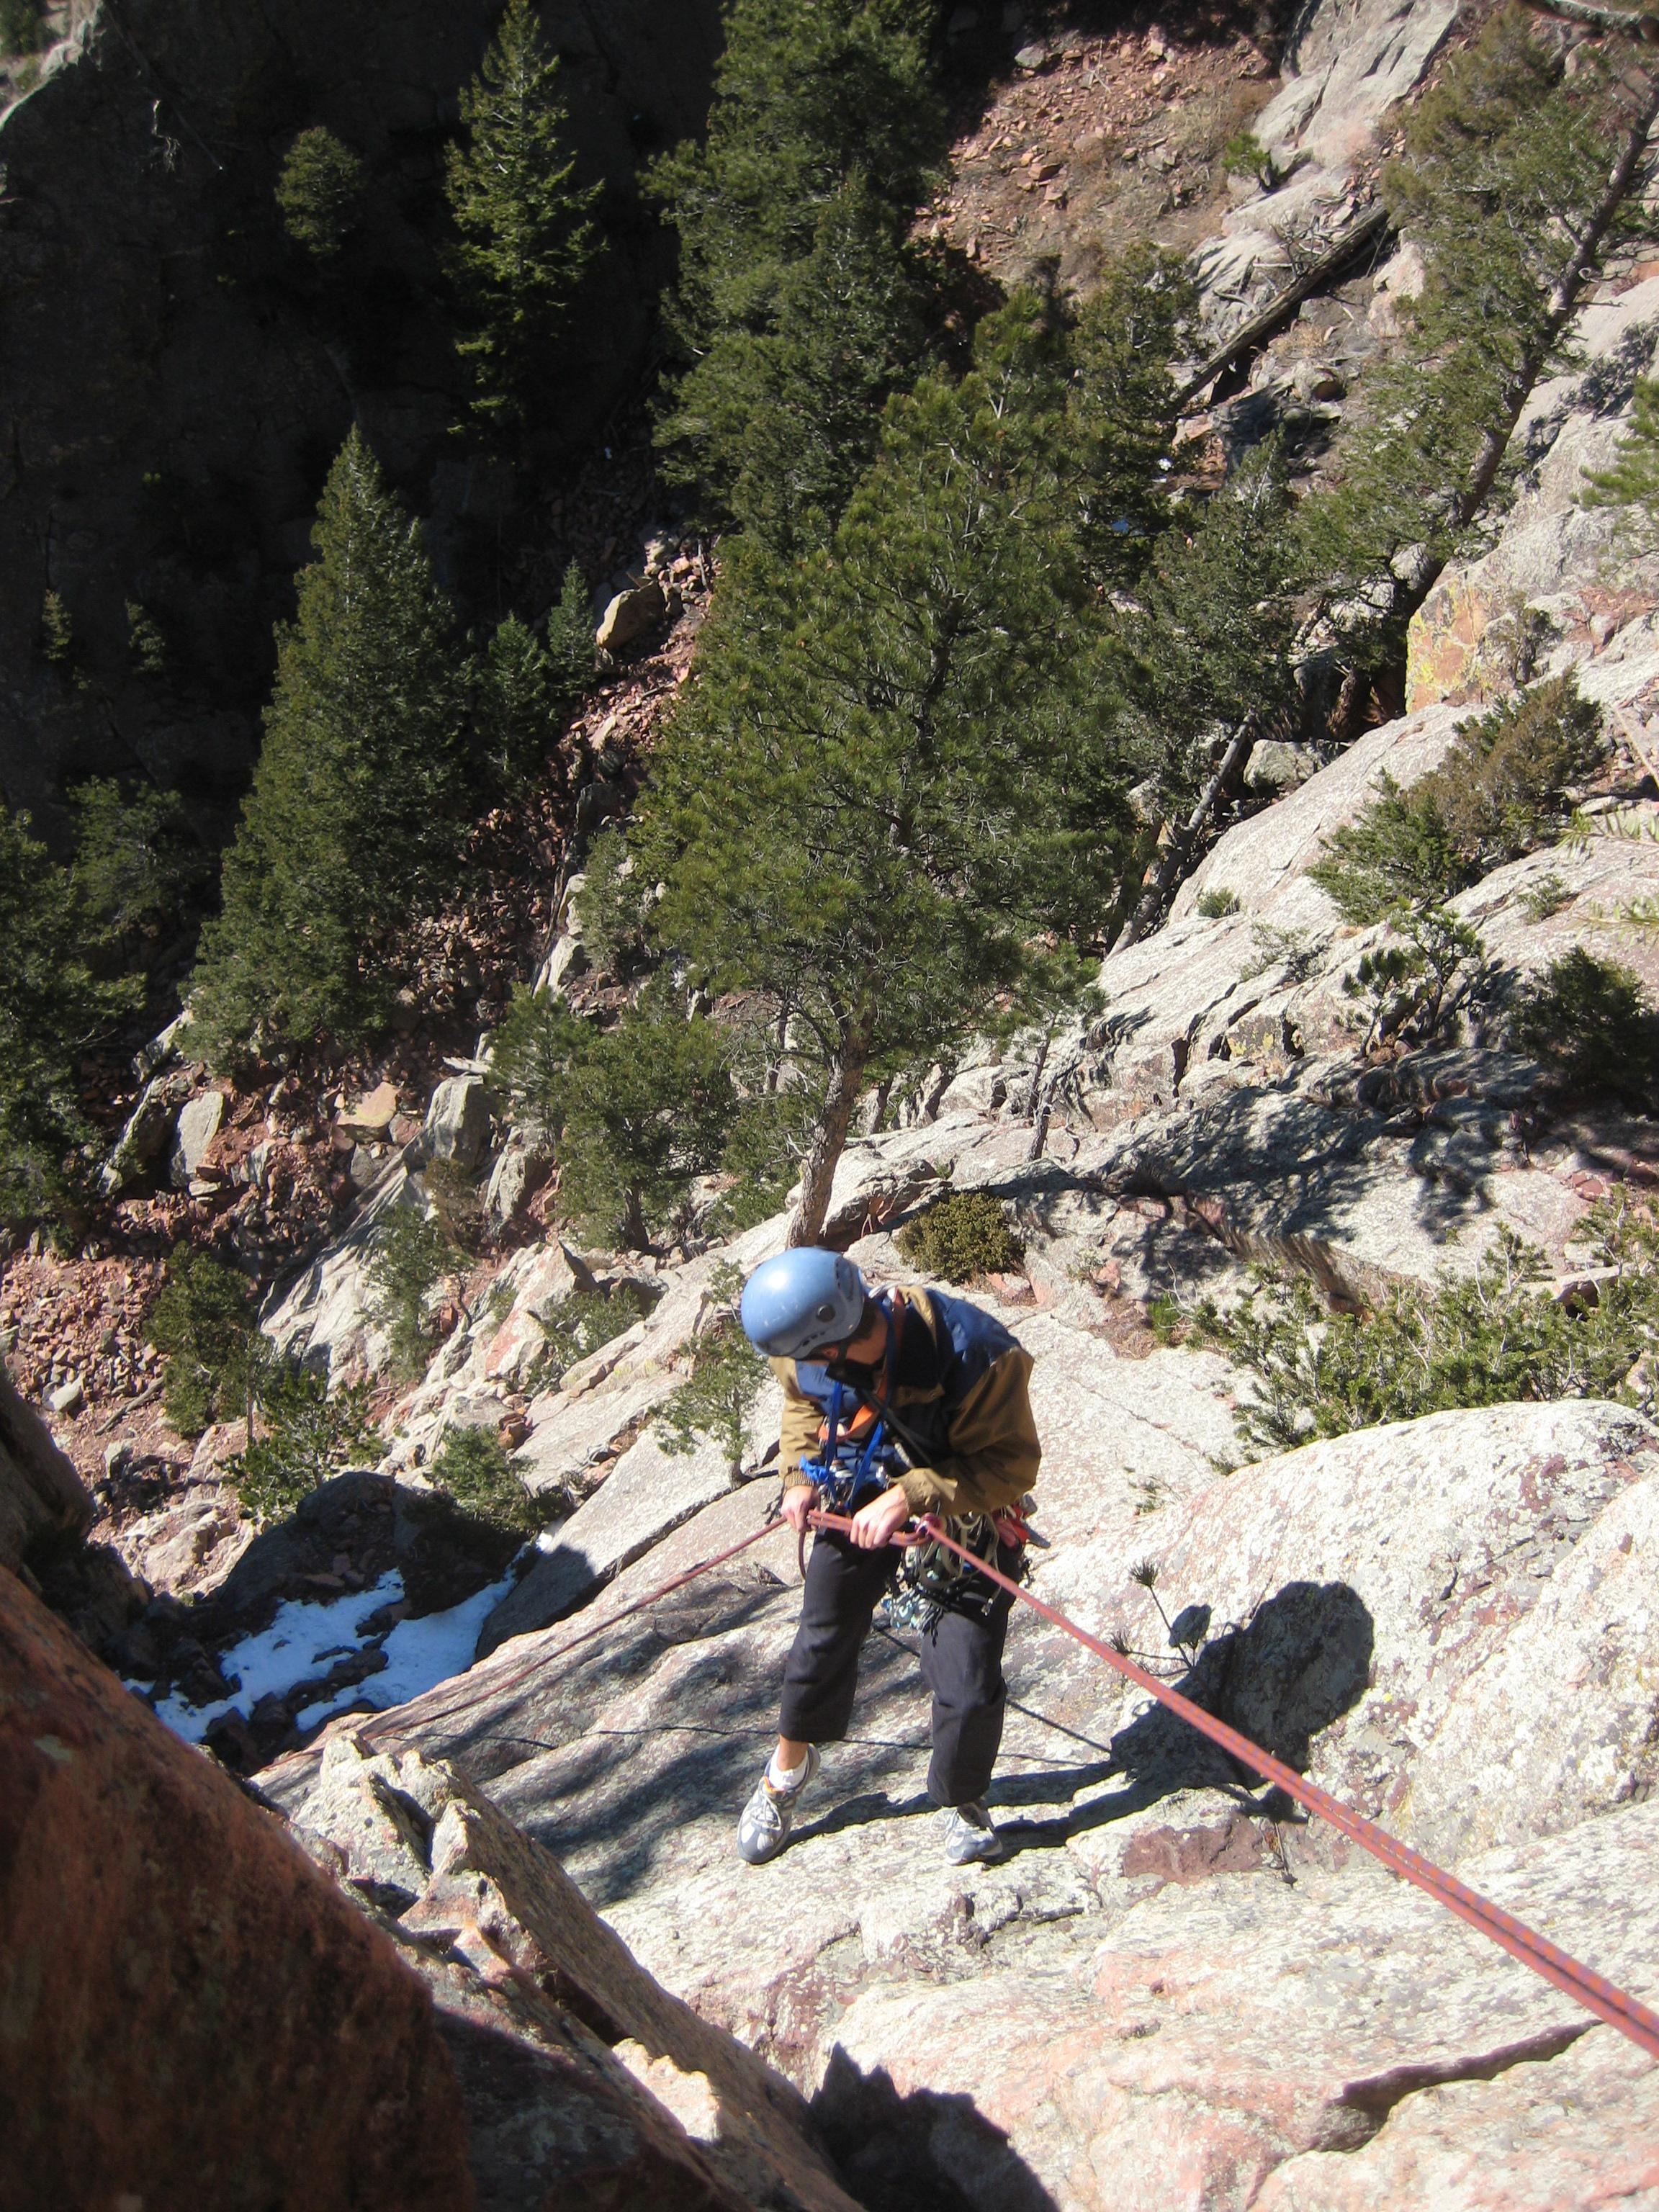helmet: (730, 1235, 875, 1367)
